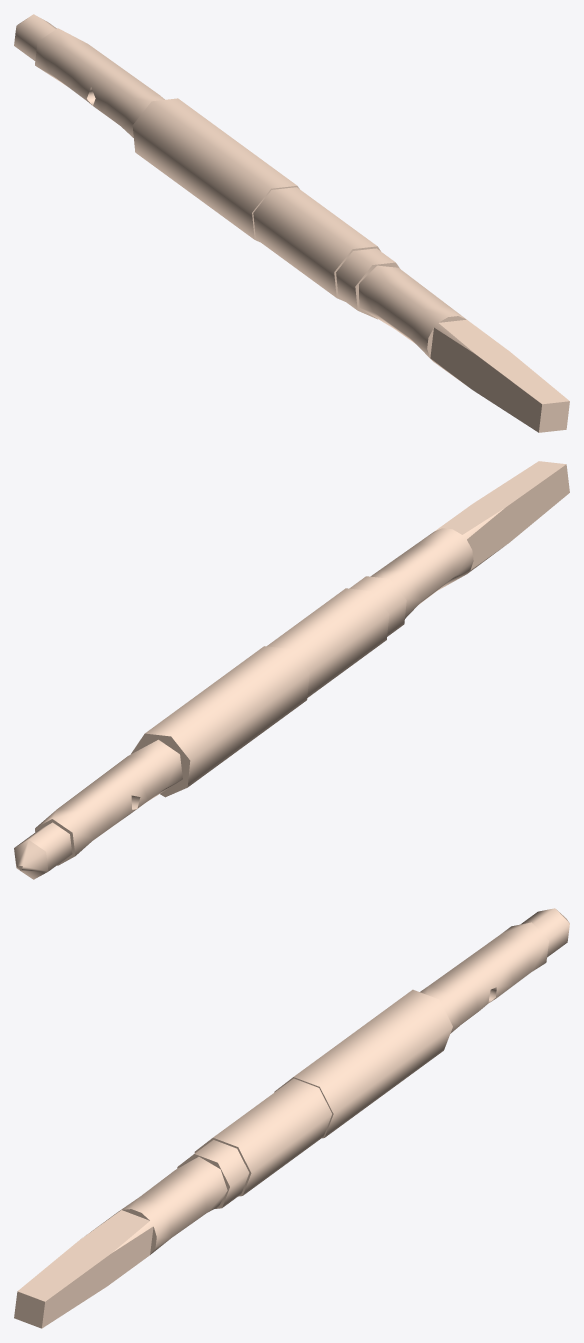
File: Axe barillet_Heures.obj
The picture shows the model from 3 angles, top to bottom: view 1: azimuth 30°, elevation 25°; view 2: azimuth 150°, elevation 25°; view 3: azimuth 330°, elevation 25°; orthographic projection.
Parts seen in each view (by area): view 1: Face_10, Face_12, Face_8, Face_16, Face_20, Face_22, Face_14, Face_6, Face_18; view 2: Face_10, Face_12, Face_8, Face_16, Face_20, Face_22, Face_14, Face_6, Face_5, Face_9; view 3: Face_10, Face_12, Face_8, Face_16, Face_22, Face_21, Face_14, Face_6, Face_18.
Boxes of the visible parts, x1=… form: Face_10: x1=132, y1=98, x2=296, y2=239; Face_12: x1=253, y1=187, x2=376, y2=297; Face_8: x1=35, y1=28, x2=164, y2=137; Face_16: x1=359, y1=265, x2=465, y2=358; Face_20: x1=430, y1=327, x2=541, y2=432; Face_22: x1=439, y1=319, x2=569, y2=404; Face_14: x1=336, y1=248, x2=395, y2=310; Face_6: x1=14, y1=14, x2=56, y2=60; Face_18: x1=539, y1=401, x2=569, y2=432; Face_10: x1=145, y1=646, x2=309, y2=787; Face_12: x1=267, y1=588, x2=389, y2=697; Face_8: x1=36, y1=739, x2=182, y2=855; Face_16: x1=370, y1=528, x2=473, y2=618; Face_20: x1=467, y1=464, x2=569, y2=569; Face_22: x1=434, y1=461, x2=566, y2=534; Face_14: x1=349, y1=576, x2=406, y2=636; Face_6: x1=16, y1=822, x2=72, y2=871; Face_5: x1=14, y1=840, x2=48, y2=879; Face_9: x1=131, y1=733, x2=190, y2=797; Face_10: x1=294, y1=989, x2=452, y2=1137; Face_12: x1=213, y1=1078, x2=331, y2=1195; Face_8: x1=420, y1=922, x2=548, y2=1033; Face_16: x1=120, y1=1157, x2=227, y2=1254; Face_22: x1=17, y1=1210, x2=149, y2=1301; Face_21: x1=42, y1=1226, x2=153, y2=1328; Face_14: x1=194, y1=1140, x2=249, y2=1207; Face_6: x1=520, y1=908, x2=569, y2=957; Face_18: x1=14, y1=1291, x2=44, y2=1328.
Size of the model in its own units: 0.0089 by 0.00893 by 0.1386.
